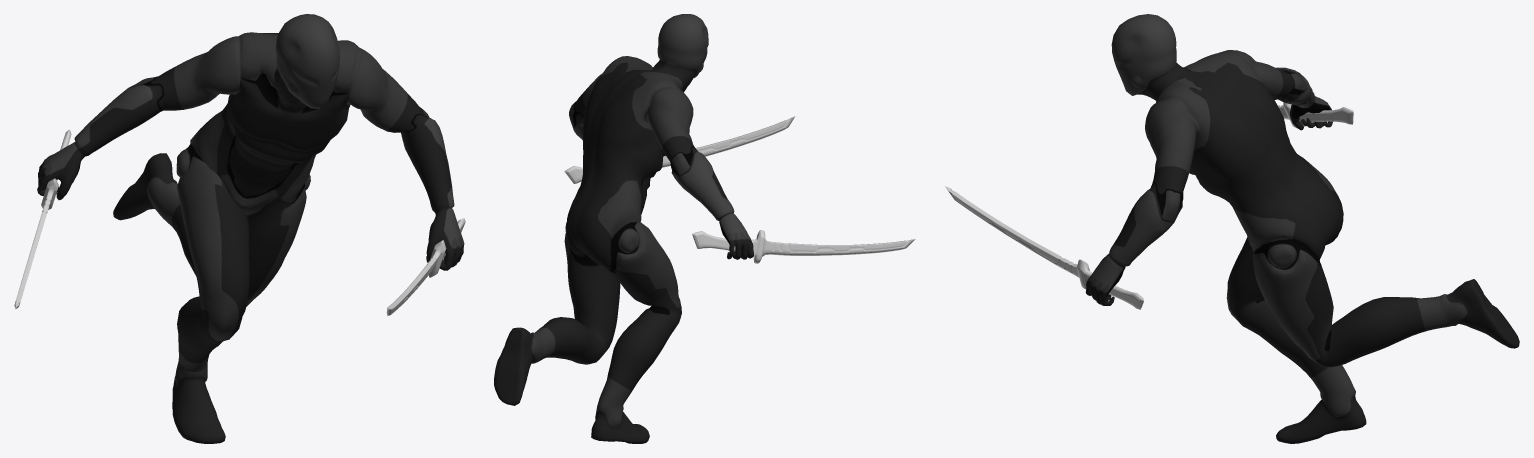
3 renders of one model, left to right at view 1: azimuth 30°, elevation 25°; view 2: azimuth 150°, elevation 25°; view 3: azimuth 270°, elevation 25°, orthographic. The views are drawn at different scales.
Visible parts, largest first — view 1: Cyborg_Ninja_Killer, Sword_l001, Sword_l; view 2: Cyborg_Ninja_Killer, Sword_l001, Sword_l; view 3: Cyborg_Ninja_Killer, Sword_l, Sword_l001.
Part boxes in pixels (x1=…): Cyborg_Ninja_Killer: x1=37, y1=14, x2=464, y2=443; Sword_l001: x1=14, y1=129, x2=71, y2=309; Sword_l: x1=386, y1=218, x2=465, y2=316; Cyborg_Ninja_Killer: x1=494, y1=14, x2=753, y2=443; Sword_l001: x1=692, y1=230, x2=915, y2=263; Sword_l: x1=564, y1=116, x2=795, y2=183; Cyborg_Ninja_Killer: x1=1085, y1=14, x2=1519, y2=443; Sword_l: x1=945, y1=186, x2=1143, y2=309; Sword_l001: x1=1277, y1=102, x2=1353, y2=128.
Size of the model in its own units: 149 by 151 by 182.
